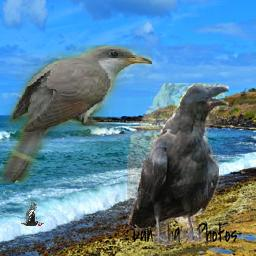Crow: (127, 83, 229, 245)
Cuckoo: (0, 45, 152, 183)
Woodpecker: (22, 202, 45, 227)
